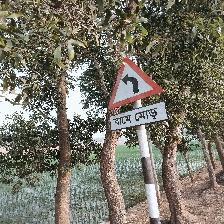Left-Turn: (106, 56, 170, 132)
